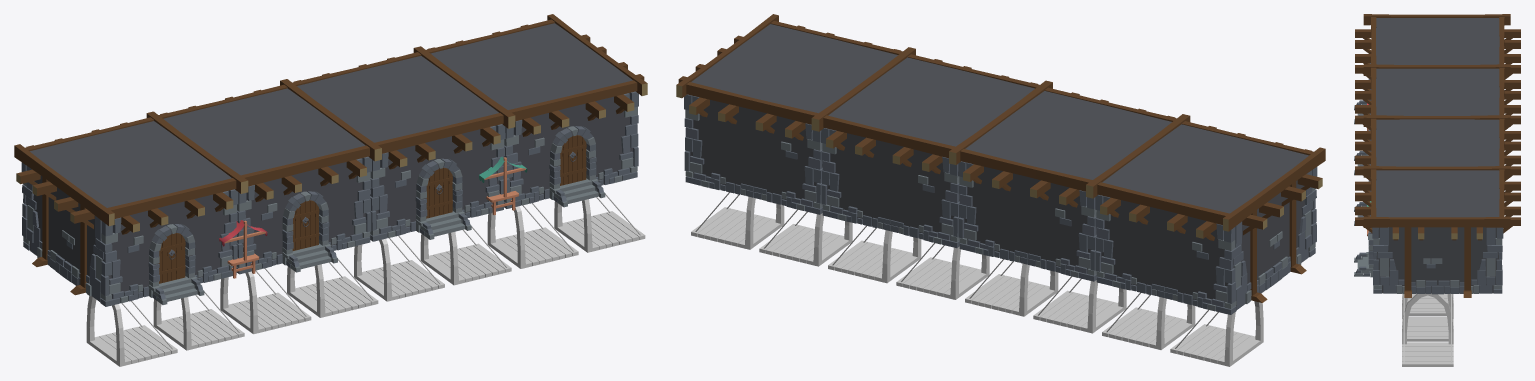
Rendered from london_landmark_full.glb.
The picture shows the model from 3 angles, left to right: view 1: azimuth 30°, elevation 25°; view 2: azimuth 150°, elevation 25°; view 3: azimuth 270°, elevation 25°; orthographic projection. The views are drawn at different scales.
Parts seen in each view (by area): view 1: House_4 (×4), Bridge_Cube.006 (×8), stall-green, stall-red; view 2: House_4 (×4), Bridge_Cube.006 (×8); view 3: House_4 (×4), Bridge_Cube.006 (×3).
Part boxes in pixels (bbox=[...]): House_4 (×4): bbox=[14, 14, 647, 306]; Bridge_Cube.006 (×8): bbox=[86, 193, 645, 366]; stall-green: bbox=[479, 156, 527, 215]; stall-red: bbox=[219, 220, 267, 278]; House_4 (×4): bbox=[676, 14, 1325, 314]; Bridge_Cube.006 (×8): bbox=[691, 192, 1263, 366]; House_4 (×4): bbox=[1354, 14, 1520, 297]; Bridge_Cube.006 (×3): bbox=[1402, 293, 1453, 366].
Bounding box in the file's own units: 31.09 × 9.22 × 9.98.
Materials: 38 (2 with a texture image).
